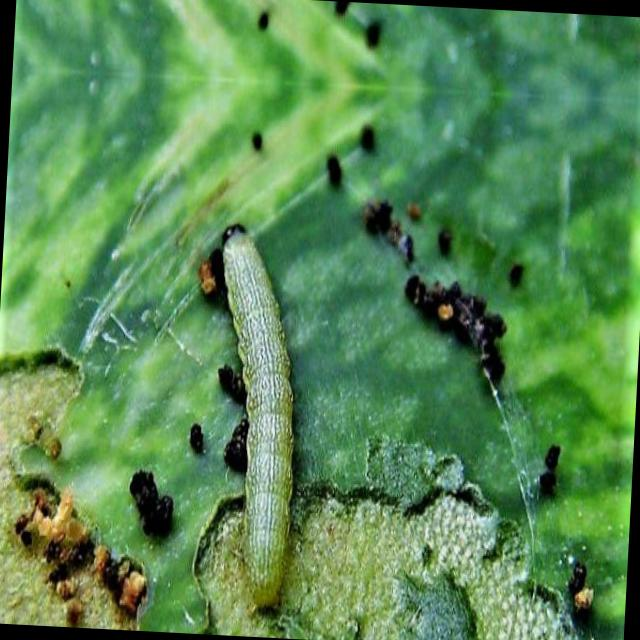Armyworm: (181, 227, 353, 599)
